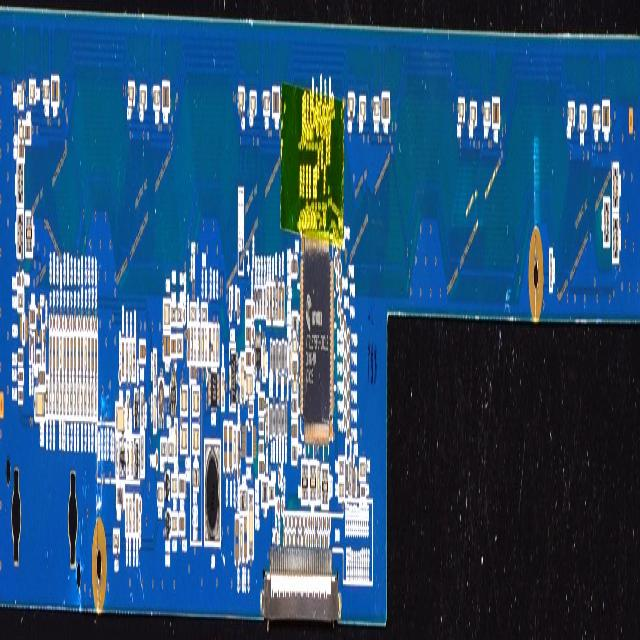Capacitor Jumper: (116, 405, 125, 432), (248, 496, 252, 556), (35, 392, 44, 417), (382, 96, 389, 121), (272, 90, 279, 113), (162, 86, 169, 108), (163, 335, 170, 356), (180, 428, 187, 449), (52, 78, 58, 102), (603, 104, 609, 128), (163, 304, 170, 324), (193, 391, 199, 414), (193, 427, 199, 450), (493, 102, 499, 125), (246, 374, 252, 396), (181, 391, 187, 413), (224, 425, 227, 469), (241, 356, 244, 399), (229, 425, 232, 468), (235, 520, 238, 562), (201, 325, 204, 363), (63, 335, 66, 371), (140, 89, 146, 107), (470, 105, 476, 123), (193, 326, 196, 361), (66, 336, 69, 371), (221, 372, 224, 407), (153, 395, 156, 430), (130, 441, 133, 476), (216, 328, 219, 362), (212, 328, 215, 362), (174, 422, 177, 456), (233, 430, 236, 464), (125, 498, 128, 532), (250, 94, 256, 111), (317, 466, 320, 499), (338, 482, 344, 498), (29, 84, 35, 100), (238, 90, 244, 106), (348, 96, 354, 112), (484, 106, 490, 122), (360, 100, 365, 119), (291, 259, 297, 274), (158, 486, 163, 504), (128, 86, 134, 101), (374, 100, 379, 118), (568, 106, 573, 124), (244, 516, 246, 559), (292, 445, 297, 462), (360, 461, 365, 478), (43, 85, 48, 102), (154, 89, 159, 106), (594, 110, 599, 127), (29, 310, 35, 324), (292, 379, 297, 395), (172, 478, 177, 494), (264, 96, 269, 112), (580, 109, 585, 125), (25, 124, 30, 140), (18, 125, 24, 138), (60, 335, 62, 373), (56, 335, 58, 371), (78, 335, 80, 371), (130, 342, 132, 378), (74, 336, 76, 371), (80, 338, 82, 373), (263, 343, 265, 378), (39, 371, 44, 385), (179, 517, 184, 531), (459, 102, 464, 116), (88, 338, 90, 372), (240, 524, 242, 558), (91, 338, 93, 371), (205, 328, 207, 360), (70, 338, 72, 370), (172, 516, 176, 532), (52, 337, 54, 368), (292, 340, 297, 352), (289, 344, 291, 374), (360, 485, 365, 497), (18, 90, 22, 105), (85, 336, 86, 372), (50, 336, 51, 371), (95, 338, 96, 373)
IC: (299, 229, 334, 443)
Resistor Jumper: (94, 379, 97, 417), (266, 285, 269, 322), (549, 252, 552, 288), (126, 441, 129, 477), (113, 532, 119, 550), (153, 353, 156, 388), (275, 286, 278, 320), (87, 381, 90, 415), (132, 500, 135, 532), (190, 365, 196, 380), (258, 397, 264, 412), (246, 326, 251, 343), (177, 336, 182, 353), (18, 144, 24, 158), (201, 308, 207, 322), (246, 305, 251, 321), (171, 306, 176, 322), (161, 442, 166, 458), (190, 308, 196, 321), (171, 339, 176, 354), (259, 460, 264, 475), (126, 342, 128, 379), (46, 380, 48, 416), (91, 380, 93, 416), (77, 380, 79, 416), (80, 381, 82, 417), (266, 404, 268, 440), (141, 434, 143, 470), (136, 497, 138, 533), (18, 294, 23, 308), (270, 286, 272, 321), (66, 381, 68, 416), (116, 441, 118, 476), (339, 461, 344, 475), (349, 462, 351, 497), (130, 497, 132, 532), (272, 286, 274, 320), (198, 326, 200, 360), (187, 328, 189, 362), (209, 328, 211, 362), (133, 344, 135, 378), (74, 381, 76, 415), (141, 392, 143, 426), (127, 395, 129, 429), (278, 286, 280, 319), (190, 328, 192, 361), (42, 331, 44, 364), (49, 381, 51, 414), (70, 381, 72, 414), (84, 382, 86, 415), (246, 352, 251, 365), (53, 381, 55, 413), (63, 381, 65, 413), (60, 382, 62, 414), (178, 308, 182, 323), (282, 342, 284, 372), (276, 408, 278, 438), (168, 443, 173, 455), (284, 405, 286, 434), (260, 289, 262, 317), (229, 290, 231, 318), (29, 334, 31, 362), (282, 408, 284, 436), (16, 275, 21, 286), (258, 288, 260, 315), (270, 341, 272, 368), (273, 345, 275, 372), (237, 290, 239, 316), (259, 442, 263, 455), (18, 371, 23, 381), (259, 421, 263, 433), (18, 390, 22, 400), (36, 354, 40, 363), (282, 288, 283, 320), (270, 406, 271, 436), (276, 342, 277, 370), (33, 337, 34, 364), (279, 345, 280, 372), (273, 407, 274, 434), (279, 408, 280, 435), (264, 288, 265, 314), (255, 288, 256, 314), (285, 345, 286, 371)
